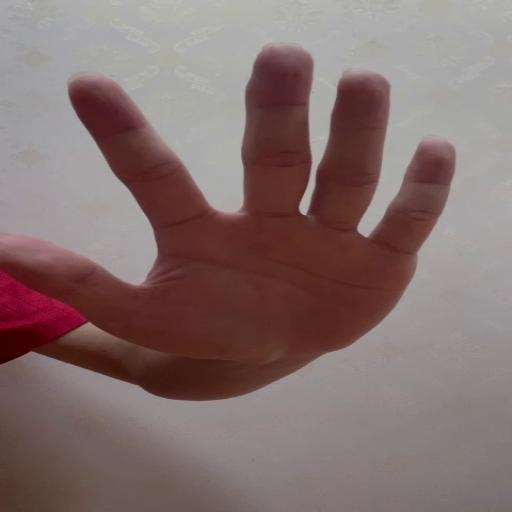open_palm: (0, 43, 459, 365)
